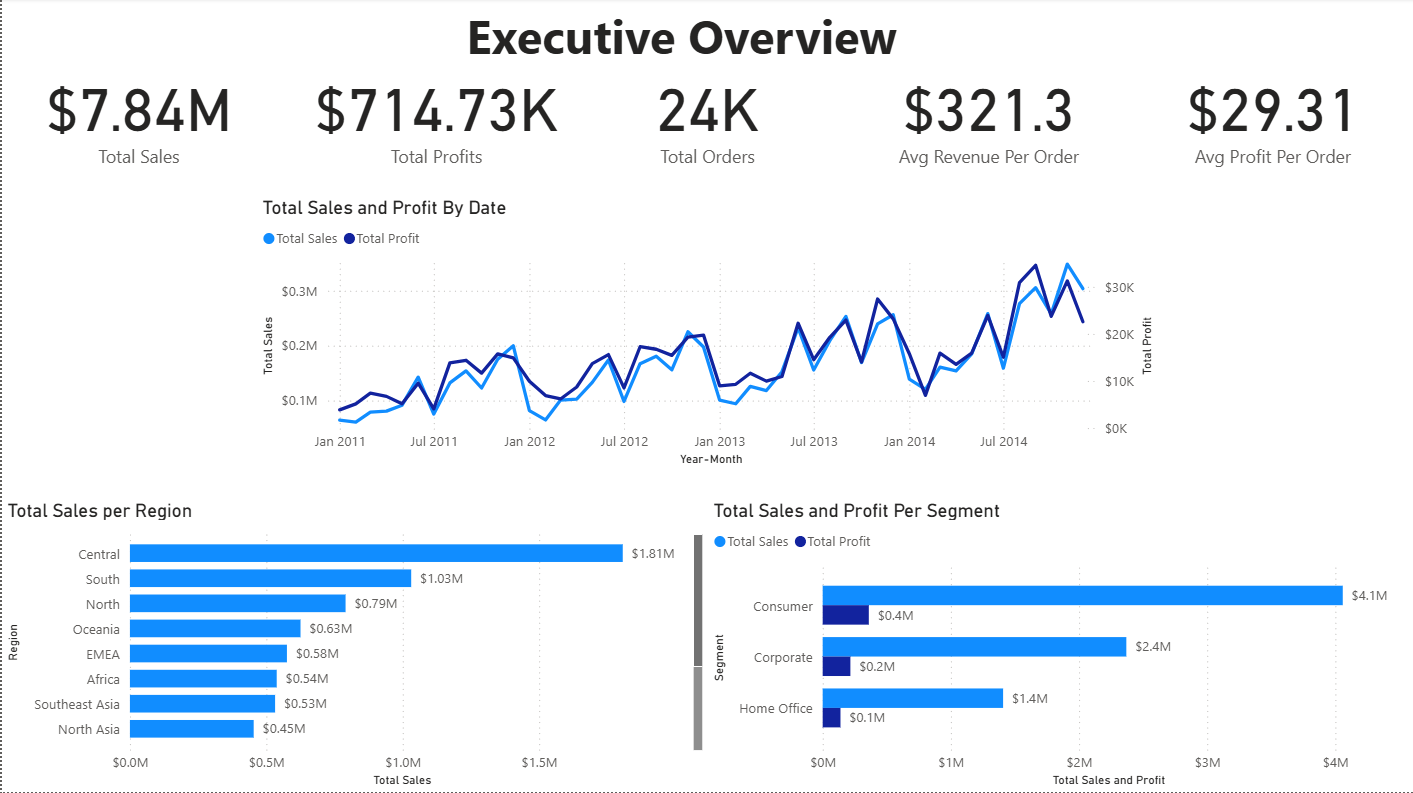

The page's visual inventory and layout, read from the dashboard file:
{"tool":"powerbi","page":{"name":"Executive Overview","canvas":[1280,720],"ordinal":0},"visuals":[{"type":"card","fields":{"Values":["Sum(public vw_overall_business_performance.total_sales)"]},"box":[18.9,0.2,210.1,210.1],"z":0},{"type":"card","fields":{"Values":["Sum(public vw_overall_business_performance.total_profit)"]},"box":[275.4,0,236.8,210.3],"z":1000},{"type":"card","fields":{"Values":["Sum(public vw_overall_business_performance.total_orders)"]},"box":[535.3,0,209.5,210.4],"z":2000},{"type":"card","fields":{"Values":["Avg(public vw_overall_business_performance.avg_revenue_per_order)"]},"box":[789.9,0.2,210.1,210.1],"z":3000},{"type":"card","fields":{"Values":["Avg(public vw_overall_business_performance.avg_profit_per_order)"]},"box":[1046.9,0.2,210.1,210.1],"z":4000},{"type":"lineChart","title":"Total Sales and Profit By Date","fields":{"Category":["public vw_monthly_sales_trend.order_year_month"],"Y":["Sum(public vw_monthly_sales_trend.total_sales)"],"Y2":["Sum(public vw_monthly_sales_trend.total_profit)"]},"box":[231.2,179.5,817.9,249.4],"z":5000},{"type":"clusteredBarChart","title":"Total Sales per Region","fields":{"Category":["public vw_regional_performance.region"],"Y":["Sum(public vw_regional_performance.total_sales)"]},"box":[0,454.3,640.2,265.7],"z":6000},{"type":"clusteredBarChart","title":"Total Sales and Profit Per Segment","fields":{"Category":["public vw_segment_performance.segment"],"Y":["Sum(public vw_segment_performance.total_sales)","Sum(public vw_segment_performance.total_profit)"]},"box":[640.2,454.3,640.2,265.7],"z":7000}]}

Visuals, with their boxes in screenshot pixels (x1, y1, x2, y2), scaled from the page's 1280x720 canvas onto the 1413x793 screenshot:
card - Sum(public vw_overall_business_performance.total_sales): select_region(21, 0, 253, 232)
card - Sum(public vw_overall_business_performance.total_profit): select_region(304, 0, 565, 232)
card - Sum(public vw_overall_business_performance.total_orders): select_region(591, 0, 822, 232)
card - Avg(public vw_overall_business_performance.avg_revenue_per_order): select_region(872, 0, 1104, 232)
card - Avg(public vw_overall_business_performance.avg_profit_per_order): select_region(1156, 0, 1388, 232)
"Total Sales and Profit By Date" lineChart: select_region(255, 198, 1158, 472)
"Total Sales per Region" clusteredBarChart: select_region(0, 500, 707, 792)
"Total Sales and Profit Per Segment" clusteredBarChart: select_region(707, 500, 1412, 792)
